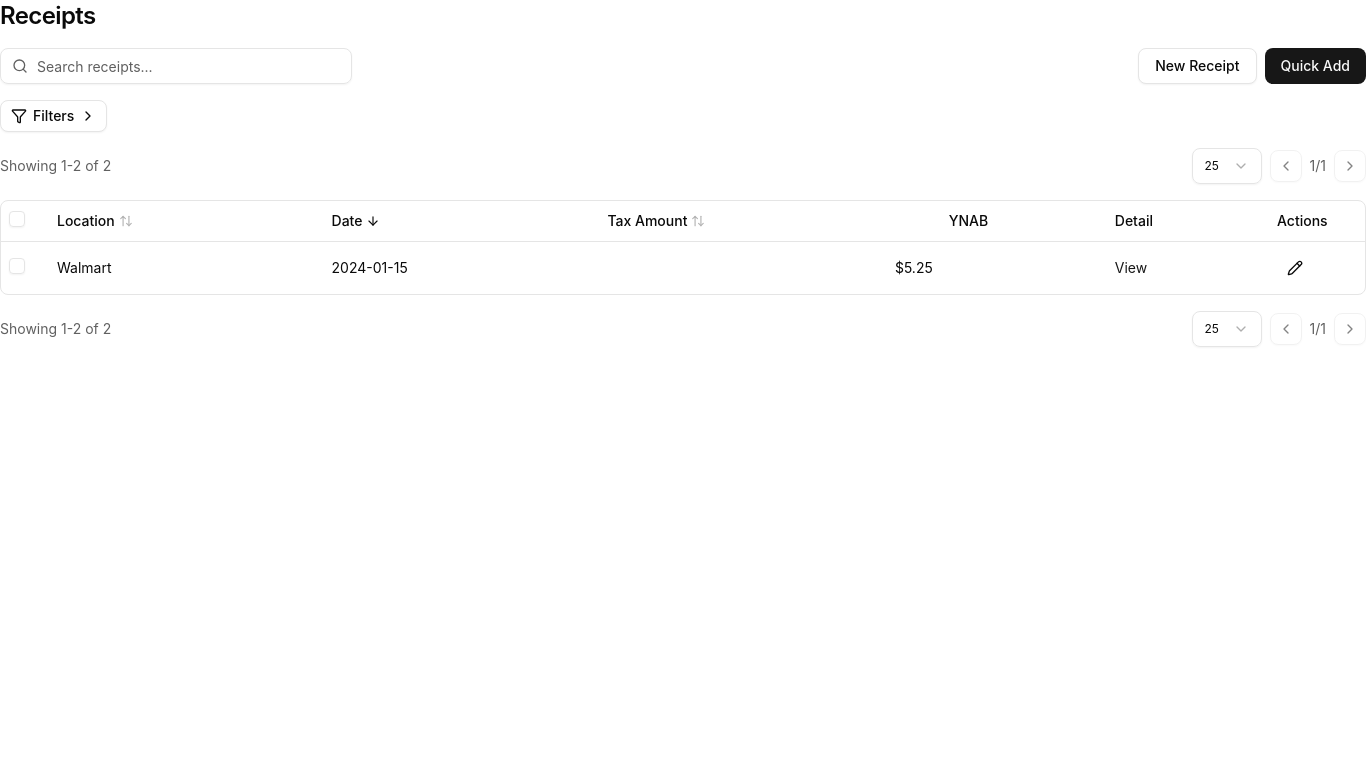
Test: Receipts › closes edit dialog when dismissed
Click the button named "edit": (1295, 268) [1277,250,1313,286]
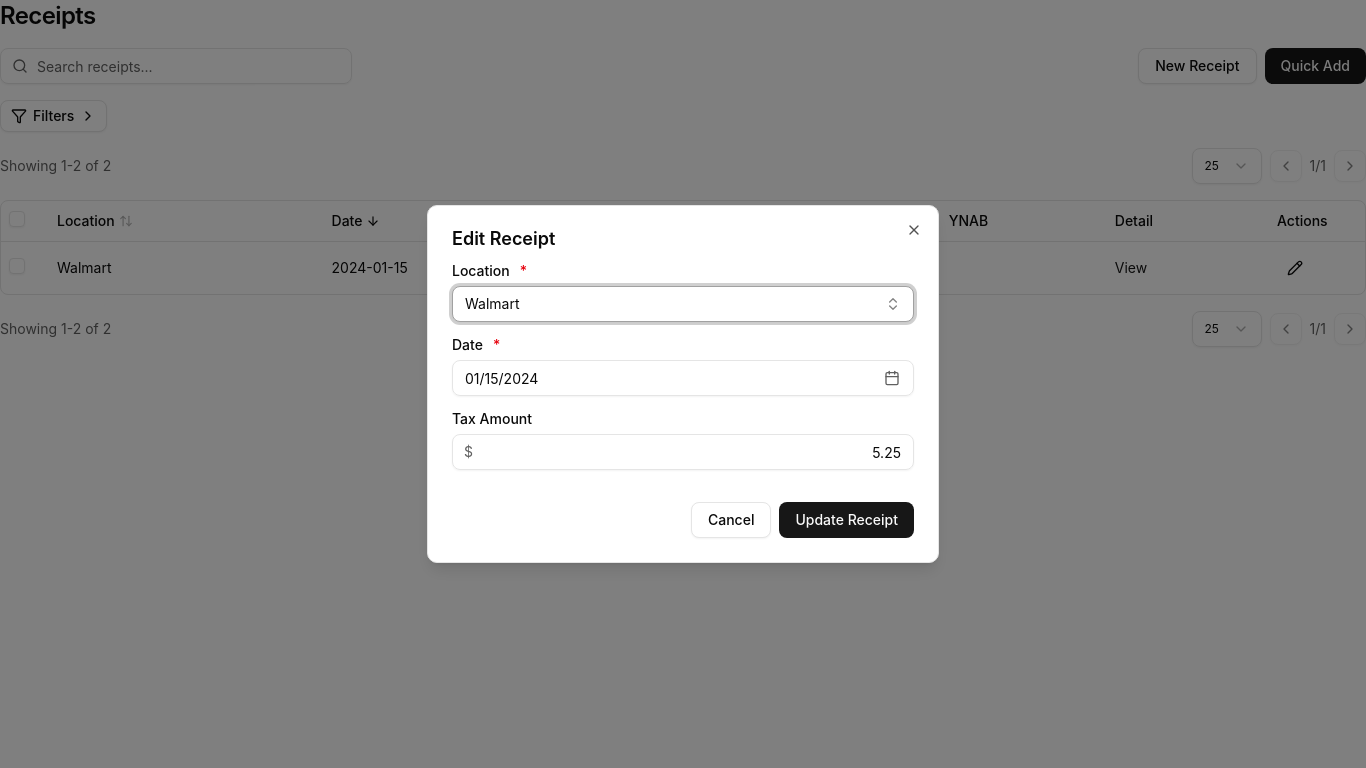
Now the heading "Edit Receipt" is shown, box [452,228,555,249]
Press Escape
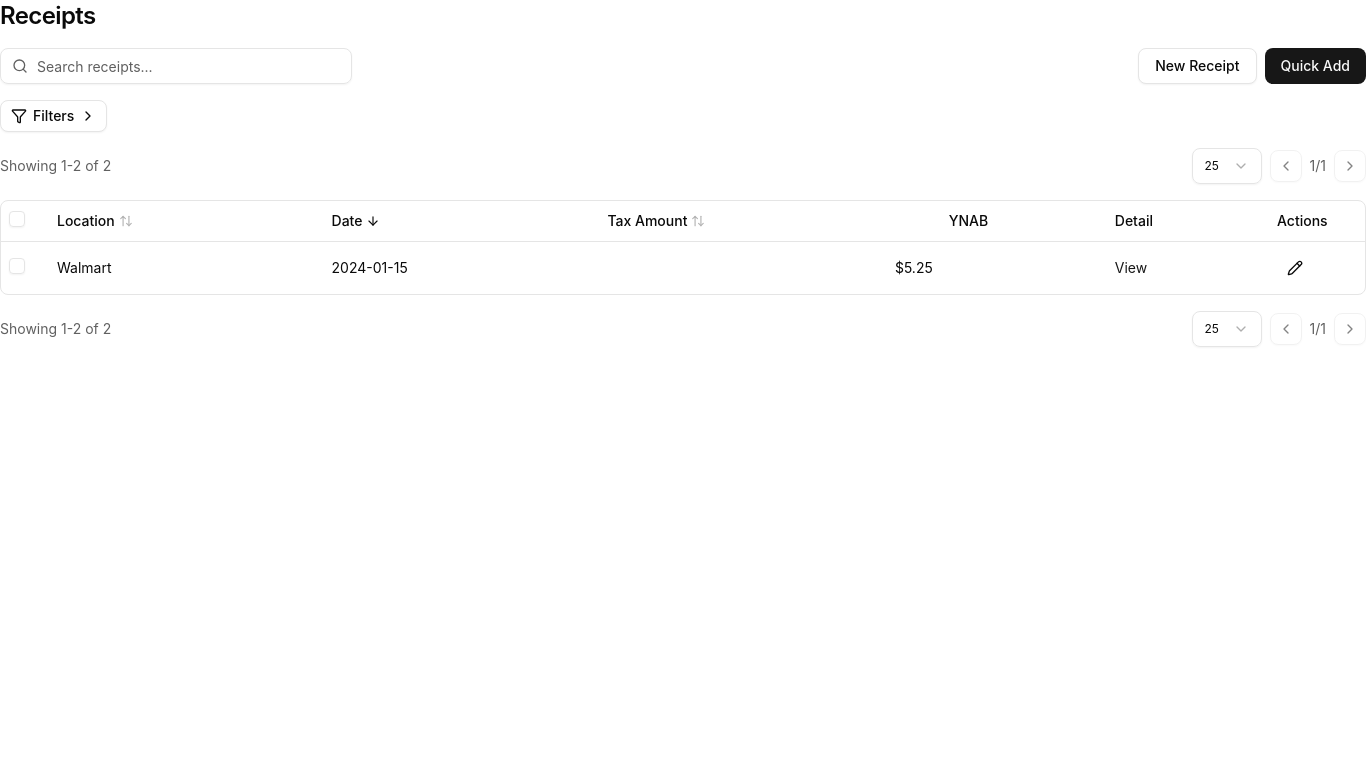
Now the heading "Edit Receipt" is gone
